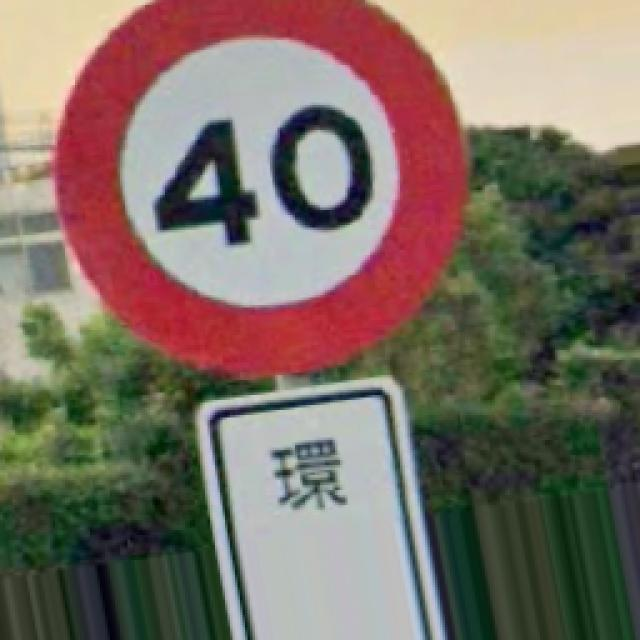Speed Limit -40-: (58, 0, 465, 372)
